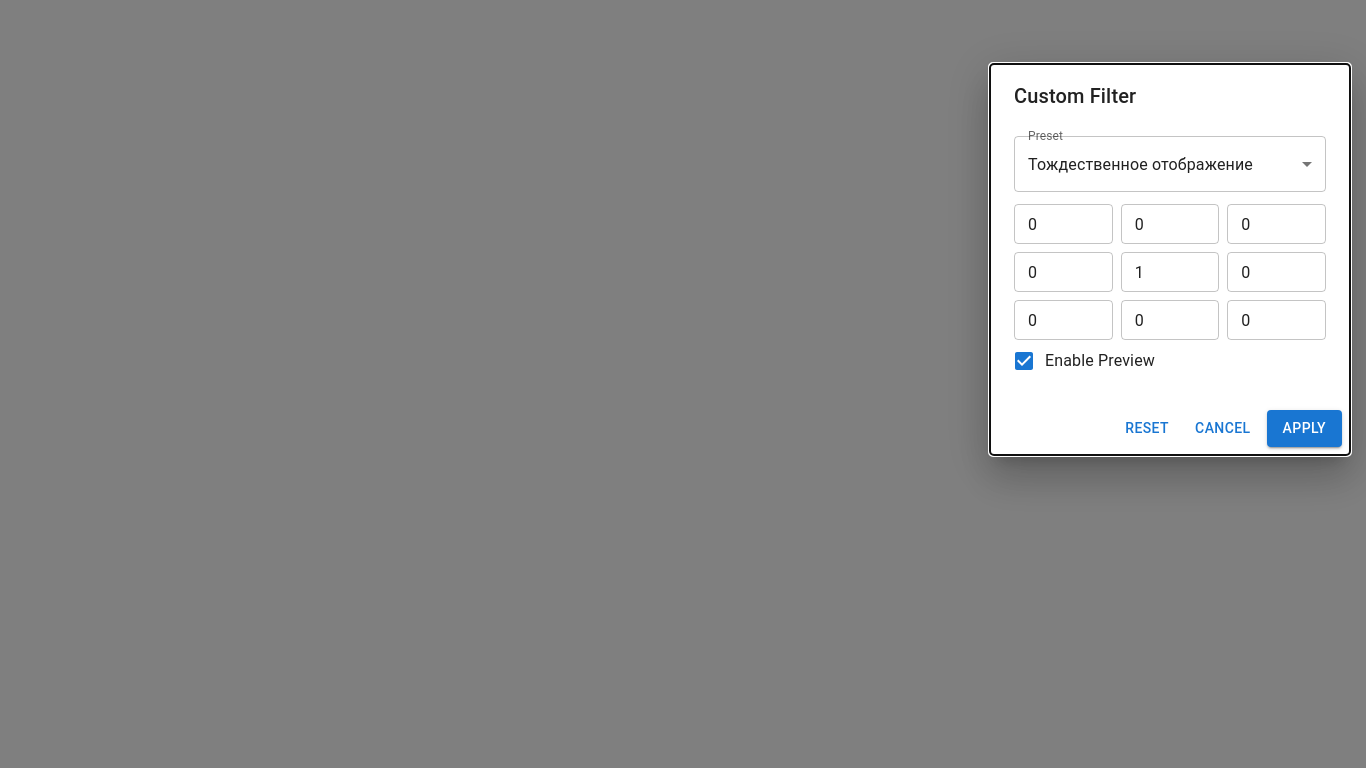
Test: CustomFilterDialog › changes kernel when preset is selected
This screenshot has width=1366, height=768.
Press the mouse on the dropdown at (1140, 164), box [1028,154,1253,174]
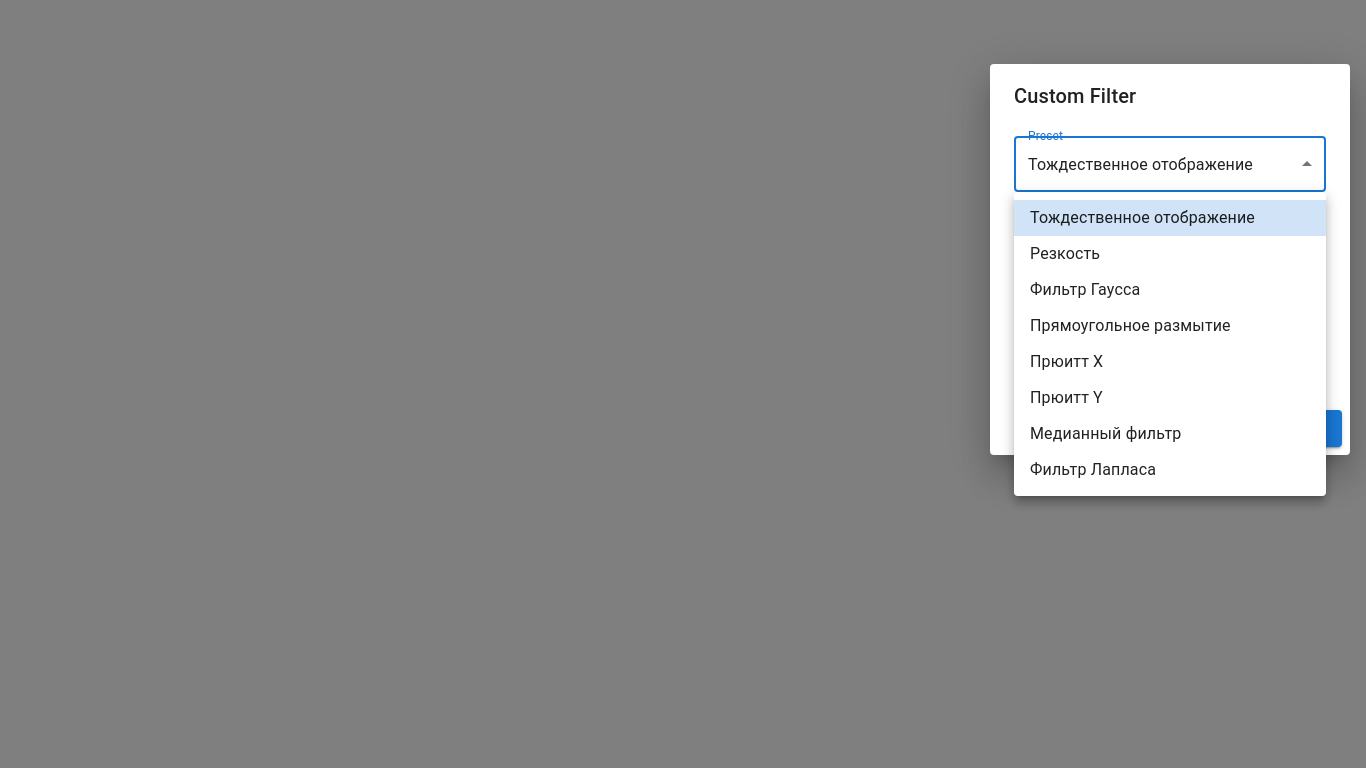
Click the option "Резкость".
click(1065, 254)  # box [1030,244,1100,263]
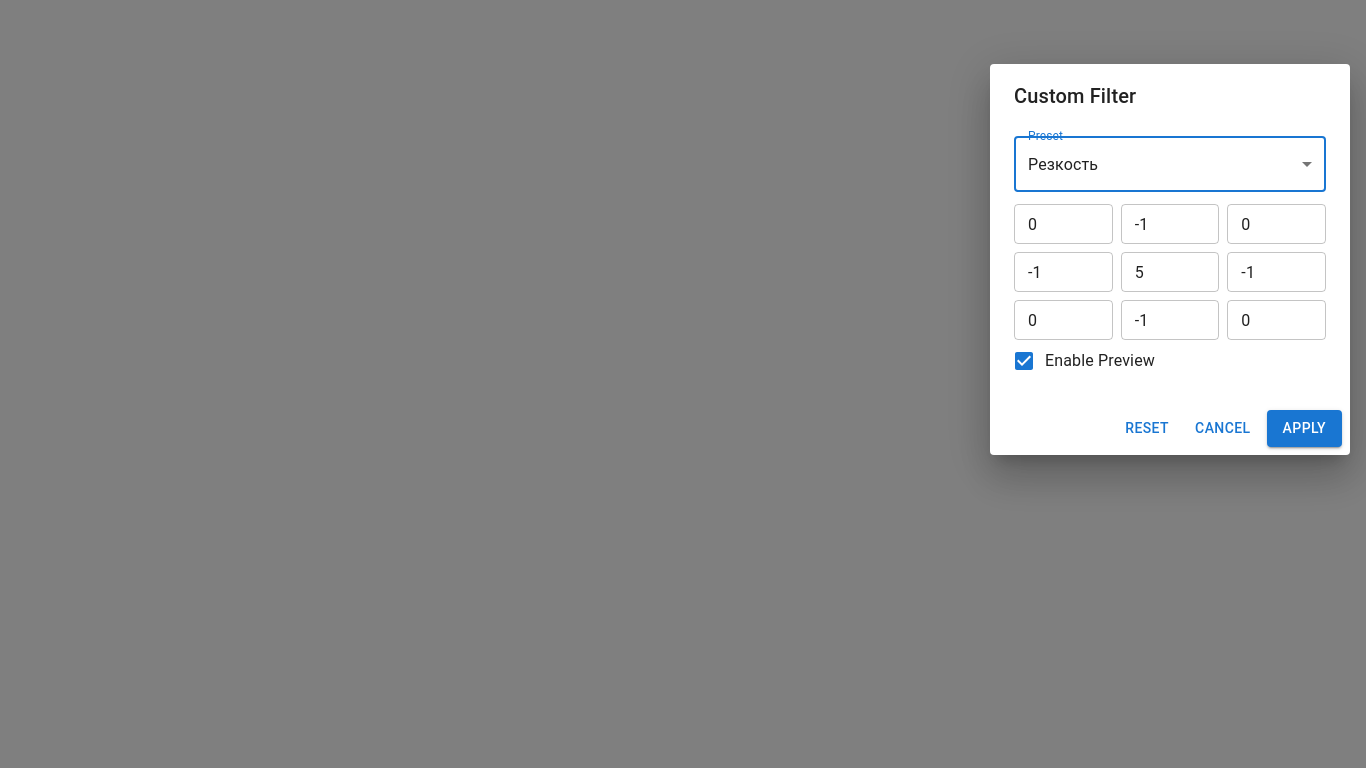
Expected: the 5th number field showing "5" is shown, [1121,252,1219,292]
